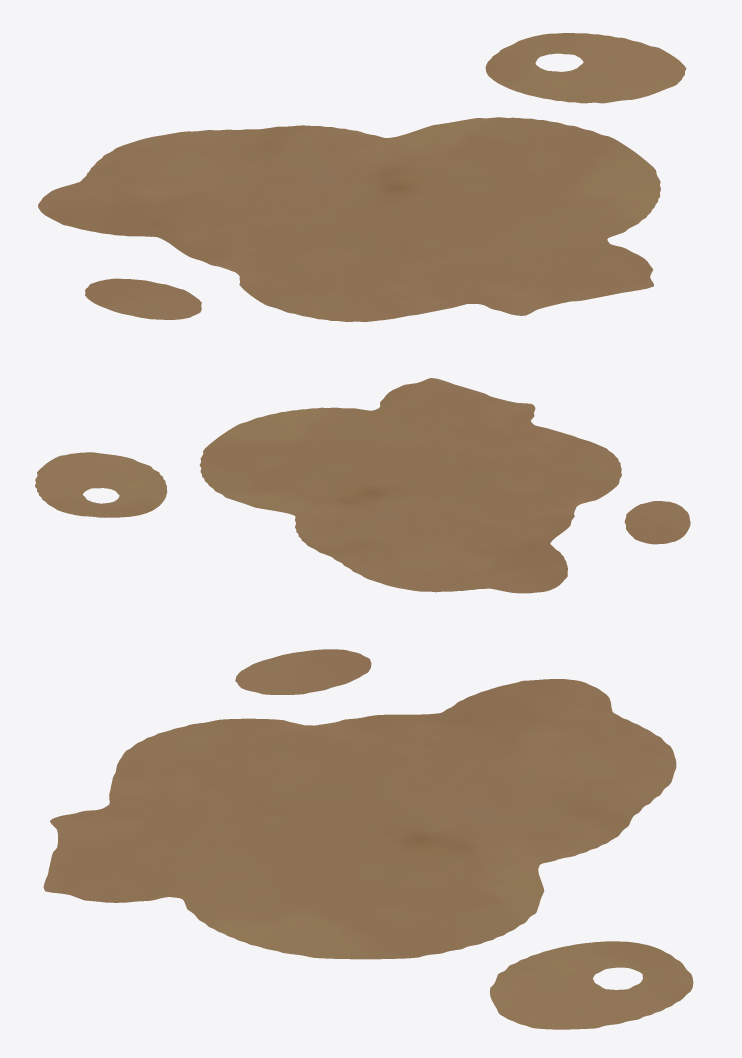
The model's file is dirt_patch_04.fbx.
3 views of the same model, one above another, from view 1: azimuth 30°, elevation 25°; view 2: azimuth 150°, elevation 25°; view 3: azimuth 270°, elevation 25° (orthographic). The views are drawn at different scales.
Parts seen in each view (by area): view 1: dirt_patch_04; view 2: dirt_patch_04; view 3: dirt_patch_04.
Boxes of the visible parts, left/top/right/bottom form: dirt_patch_04: left=38, top=33, right=686, bottom=321; dirt_patch_04: left=35, top=378, right=690, bottom=593; dirt_patch_04: left=43, top=649, right=693, bottom=1029.
Size of the model in its own units: 754 by 0 by 555.
1 material, 1 textured.
